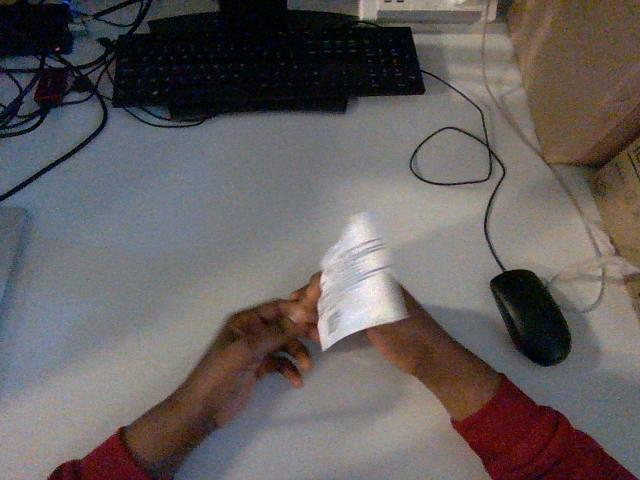syringe: (318, 213, 406, 349)
